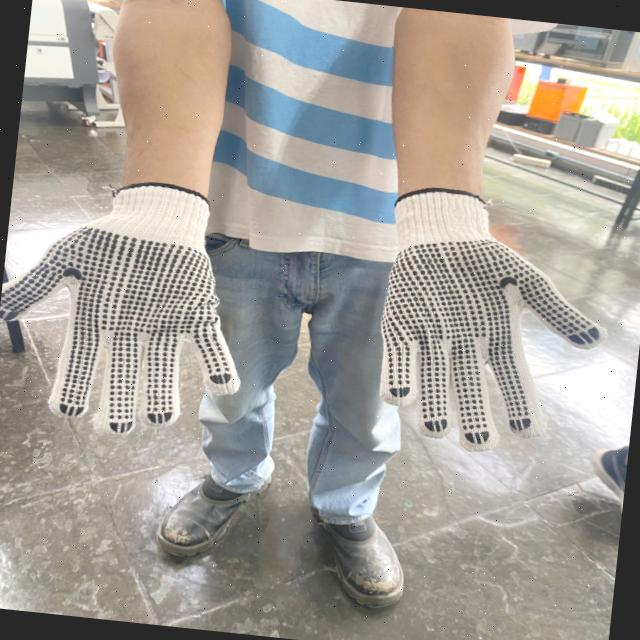BOTA: (145, 446, 280, 561), (296, 484, 407, 613)
LUVA: (367, 199, 612, 458), (1, 186, 236, 437)
